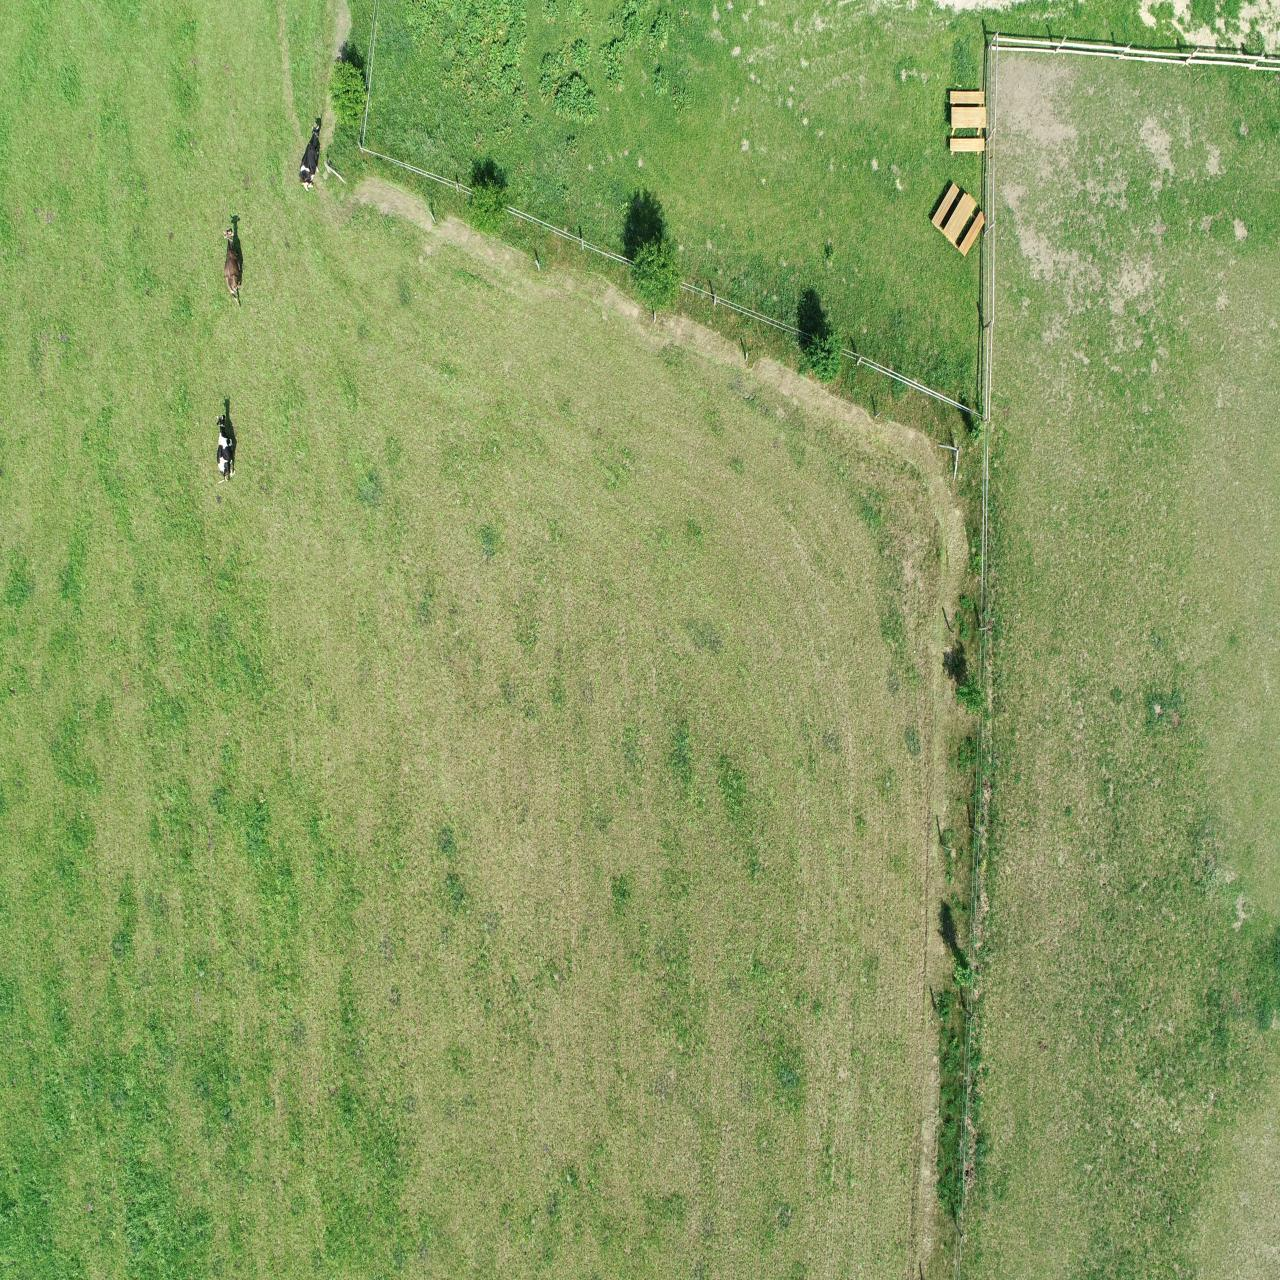cow: (220, 225, 244, 307), (215, 411, 239, 486), (297, 122, 321, 193)
